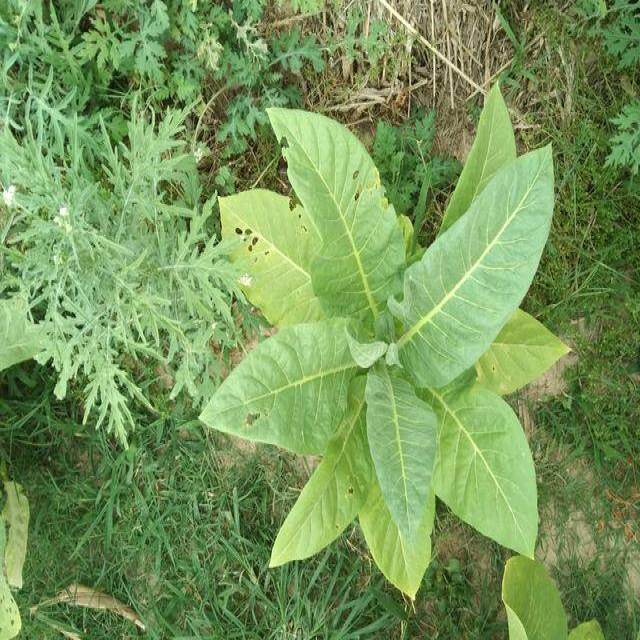crop: (204, 95, 574, 602)
